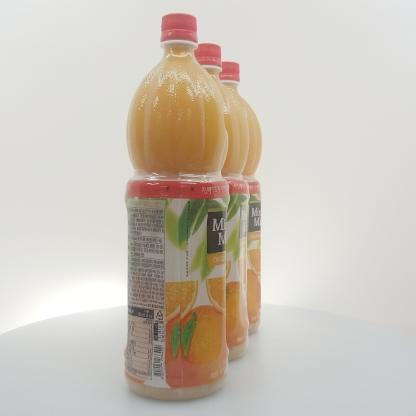------------1-5L: (123, 13, 230, 399)
